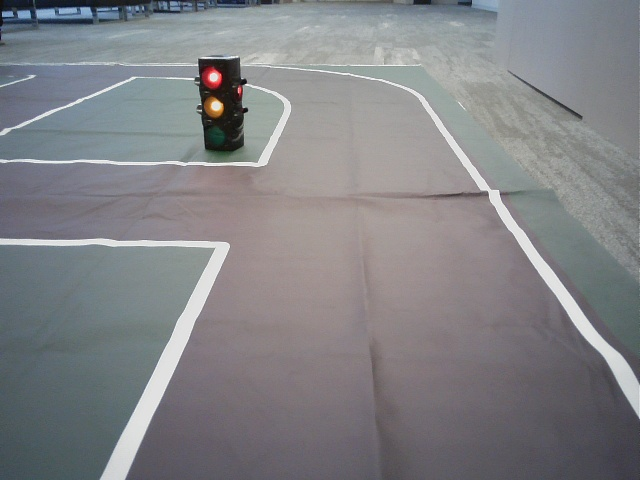red: (200, 62, 228, 149)
